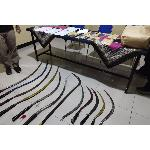Celurit: (82, 79, 122, 125)
